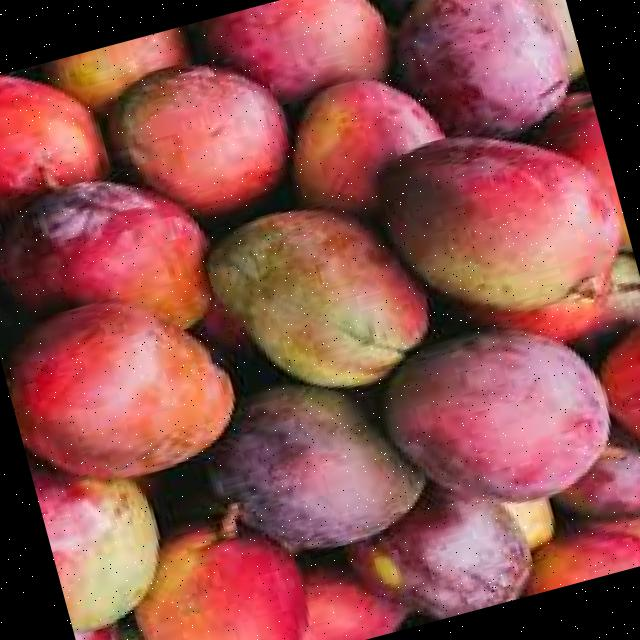mango: (372, 134, 620, 321)
